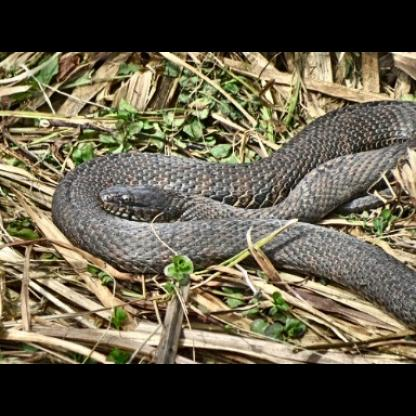Snake: (17, 118, 416, 289)
